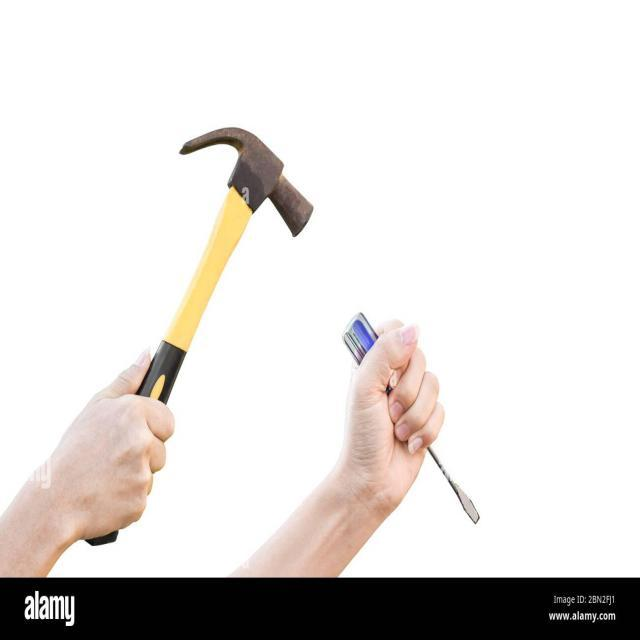hammer: (79, 125, 318, 547)
screwdriver: (338, 310, 482, 525)
